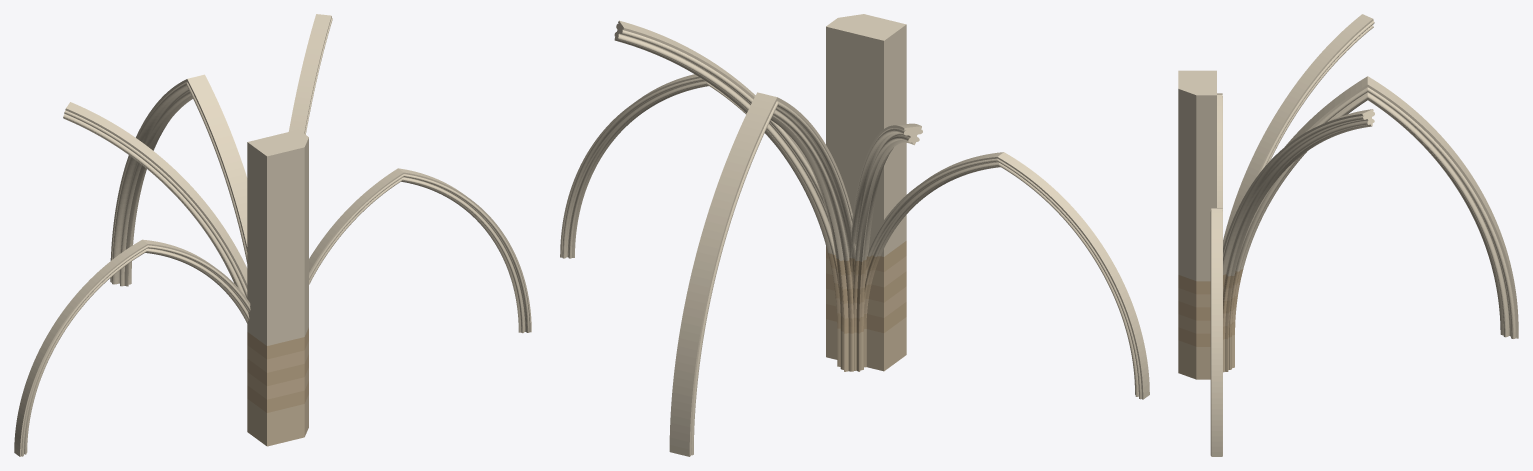
File: springer_variant.glb
3 views of the same model, side by side, from view 1: azimuth 30°, elevation 25°; view 2: azimuth 150°, elevation 25°; view 3: azimuth 270°, elevation 25° (orthographic). The views are drawn at different scales.
Visible parts, largest first — view 1: receiver, member_0, member_3, member_1, member_4, member_2, derived_respond, course_04, course_02, course_03, course_05, course_01; view 2: member_0, receiver, member_3, member_2, member_4, member_1, derived_respond, course_01, course_02, course_03, course_04, course_05; view 3: member_0, receiver, member_2, member_1, member_4, derived_respond, course_05, member_3, course_04, course_03, course_02, course_01.
Boxes of the visible parts, x1,y1,x2,y2 form: receiver: (247,129,308,345); member_0: (110,74,247,286); member_3: (14,239,250,456); member_1: (63,102,247,298); member_4: (309,168,531,333); member_2: (288,14,332,134); derived_respond: (247,394,308,446); course_04: (247,341,308,372); course_02: (247,368,308,399); course_03: (247,354,308,386); course_05: (247,327,308,359); course_01: (247,381,308,412); member_0: (669,92,855,456); receiver: (826,14,906,256); member_3: (868,152,1149,399); member_2: (614,20,835,254); member_4: (560,74,774,258); member_1: (849,123,922,261); derived_respond: (826,317,906,371); course_01: (826,302,906,333); course_02: (826,286,906,318); course_03: (826,271,906,303); course_04: (826,256,906,289); course_05: (826,241,906,275); member_0: (1235,76,1518,338); receiver: (1178,70,1216,281); member_2: (1223,109,1374,276); member_1: (1223,14,1374,247); member_4: (1210,208,1222,456); derived_respond: (1178,335,1234,379); course_05: (1178,269,1243,294); member_3: (1217,93,1222,209); course_04: (1178,282,1240,307); course_03: (1178,295,1237,320); course_02: (1178,308,1236,333); course_01: (1178,322,1235,346).
Bounding box in the file's own units: 4800 × 2900 × 2820.
